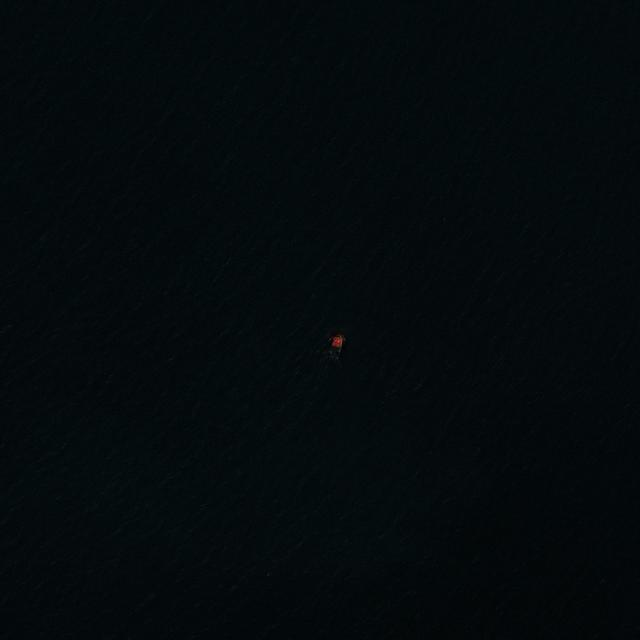Other Ship: (327, 334, 344, 361)
